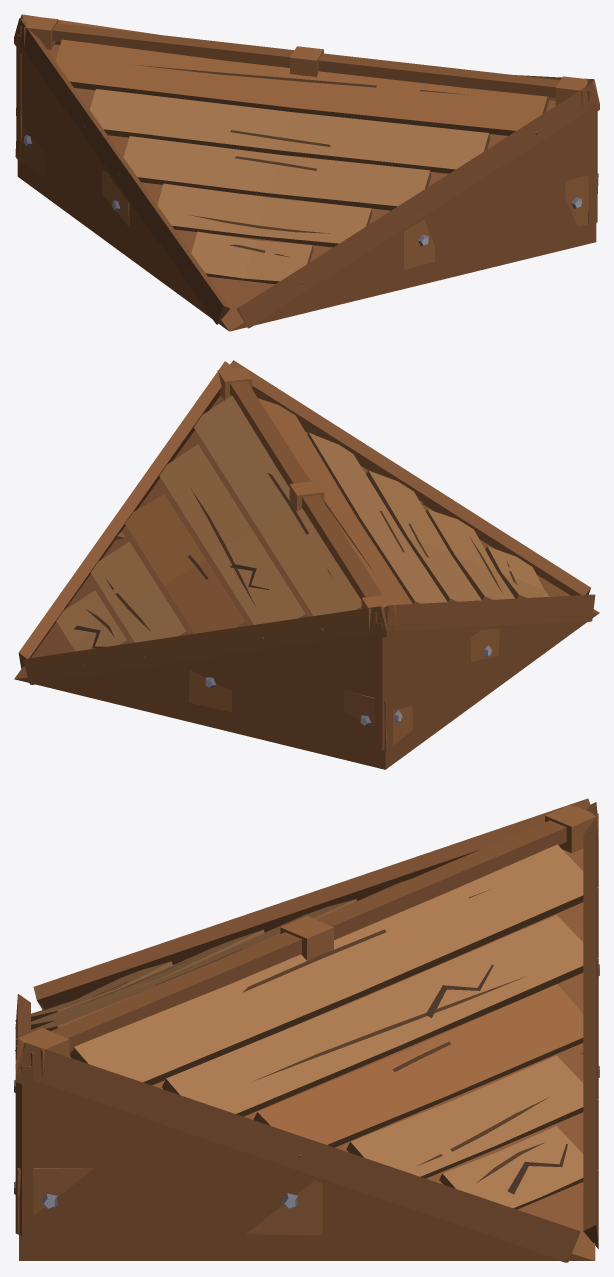
File: cone_plank_ridge_crack1.glb
3 views of the same model, one above another, from view 1: azimuth 30°, elevation 25°; view 2: azimuth 150°, elevation 25°; view 3: azimuth 270°, elevation 25° (orthographic). The views are drawn at different scales.
Visible parts, largest first — view 1: Body; view 2: Body; view 3: Body.
Part boxes in pixels (<box>): Body: <box>14,14,599,331</box>; Body: <box>14,360,599,769</box>; Body: <box>14,798,599,1262</box>.
Size of the model in its own units: 4.01 by 1.65 by 4.01.
